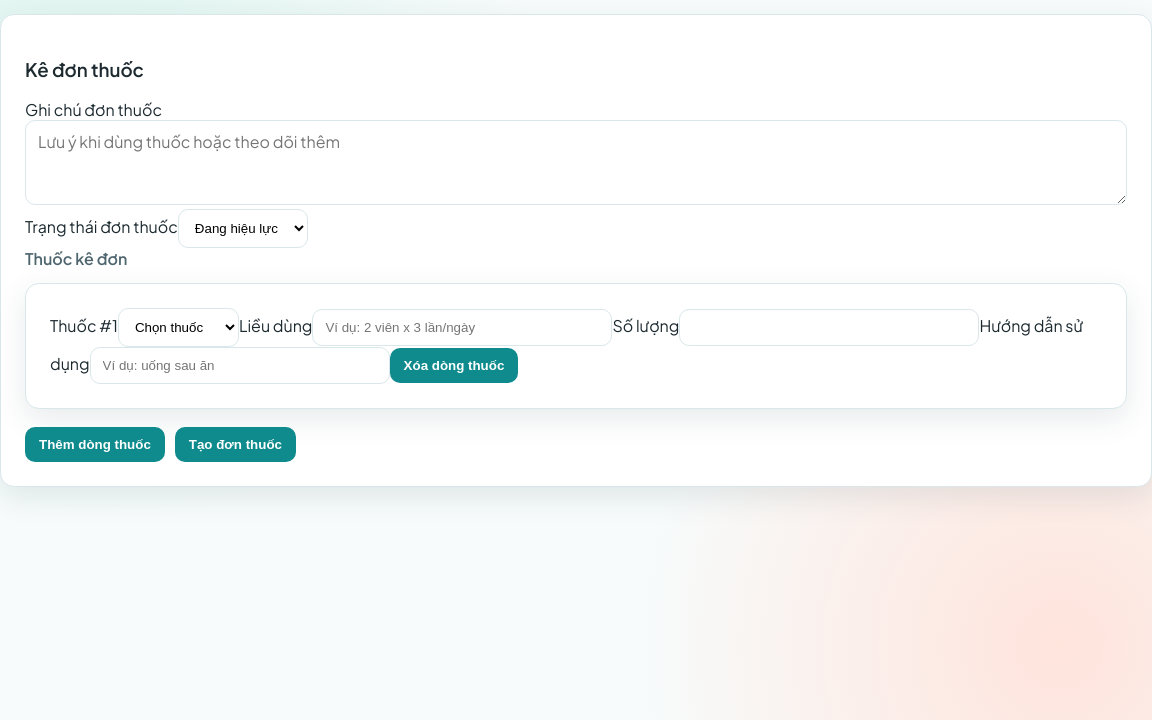
Test: PrescriptionForm › adds a new medicine row
The width and height of the screenshot is (1152, 720).
Step 1. Click the button "Thêm dòng thuốc" → (95, 445), box [25,427,165,462]
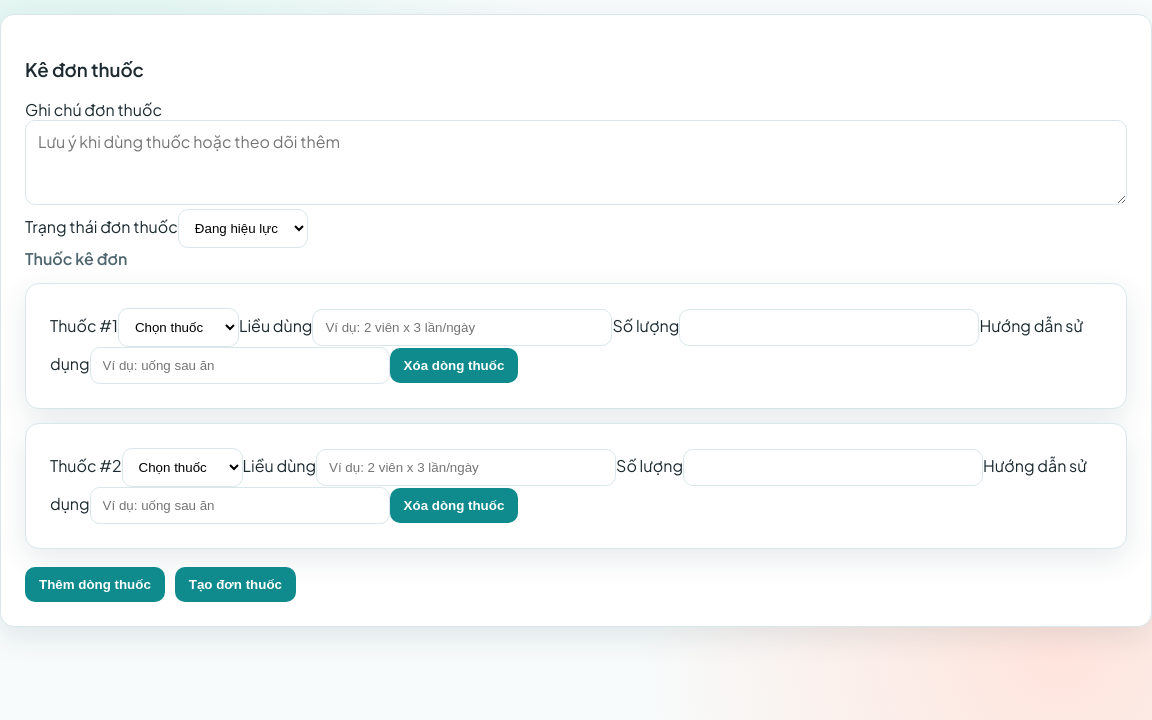
Result: the dropdown labelled "Thuốc #2" is shown at [122,448,243,487]
